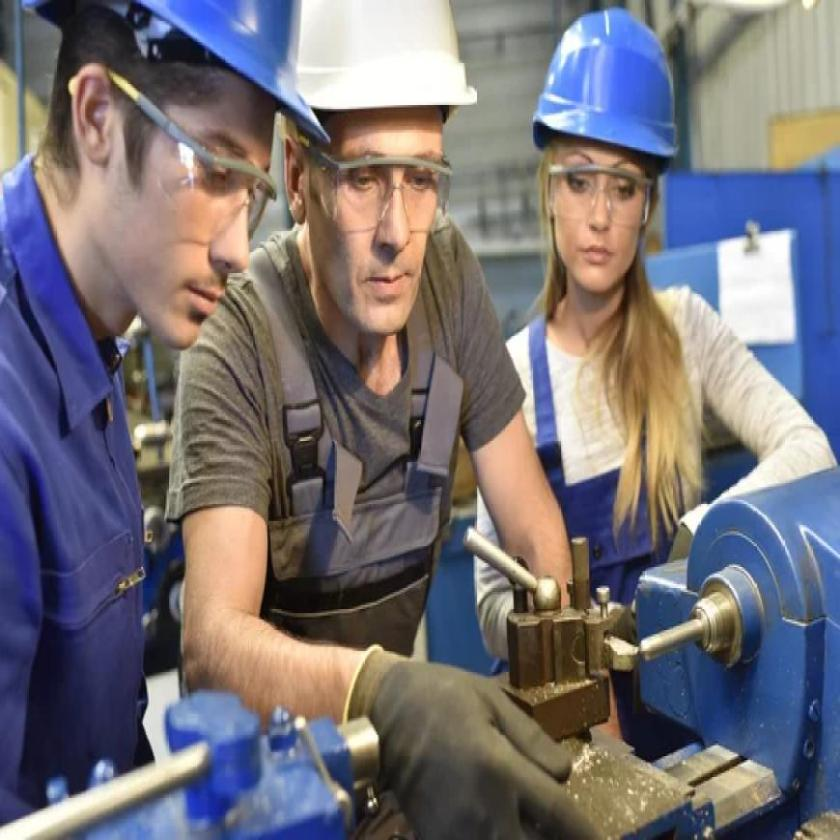Con_casco: (19, 0, 316, 360), (291, 0, 481, 341), (543, 12, 685, 327)
